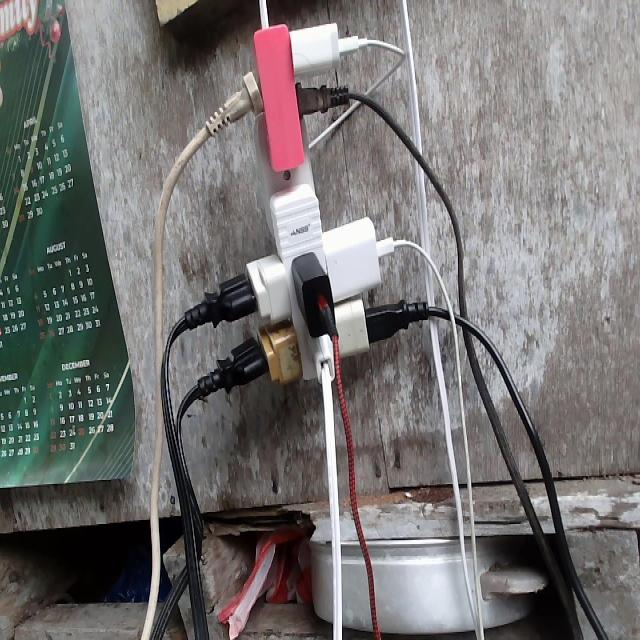-: (180, 18, 421, 402)
